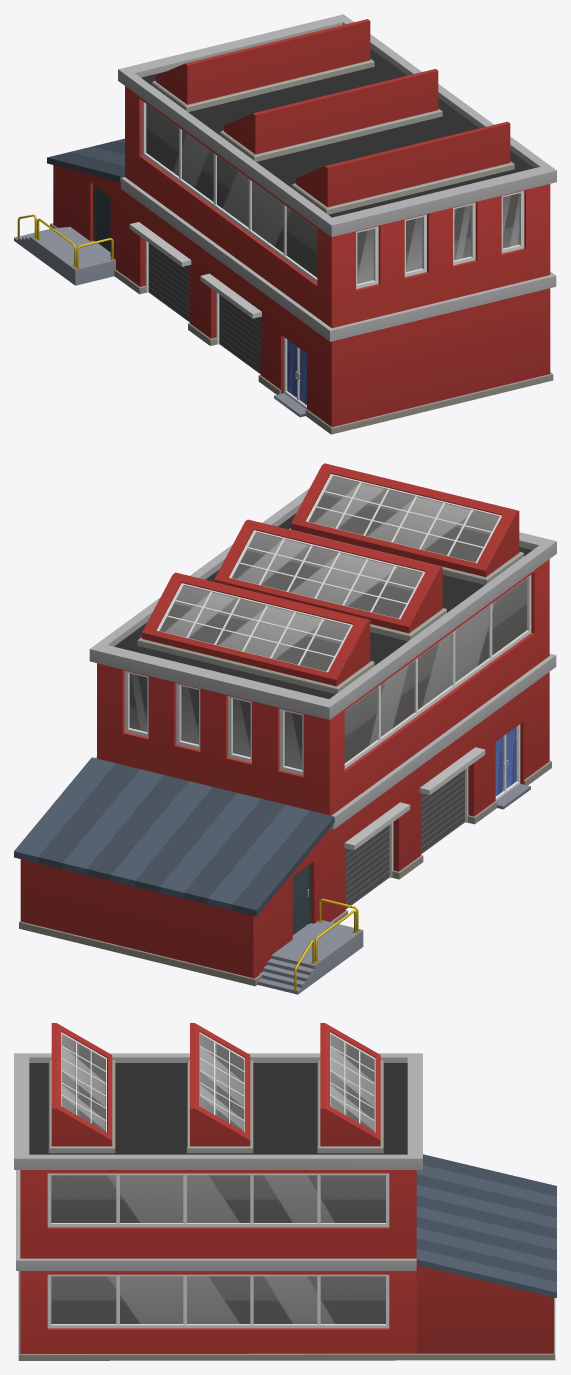
File: Building_Factory_1_A.fbx
The picture shows the model from 3 angles, top to bottom: view 1: azimuth 30°, elevation 25°; view 2: azimuth 150°, elevation 25°; view 3: azimuth 270°, elevation 25°; orthographic projection. The views are drawn at different scales.
Parts seen in each view (by area): view 1: Building_Factory_1_A; view 2: Building_Factory_1_A; view 3: Building_Factory_1_A.
Part boxes in pixels (<box>): Building_Factory_1_A: <box>14,14,556,434</box>; Building_Factory_1_A: <box>14,463,556,994</box>; Building_Factory_1_A: <box>14,1023,556,1360</box>.
Size of the model in its own units: 1025 by 931 by 1907.
